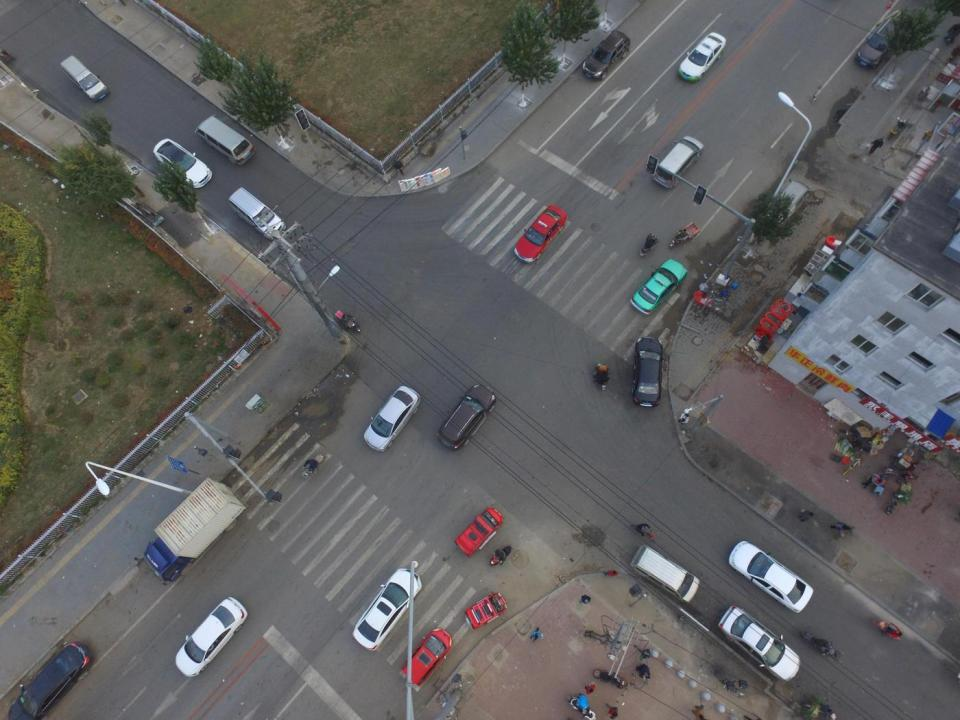car: (8, 641, 93, 720), (716, 605, 801, 682), (727, 540, 814, 614), (175, 596, 248, 678), (352, 568, 422, 651), (437, 384, 496, 452), (364, 384, 420, 453), (629, 259, 688, 316), (514, 205, 567, 264), (400, 628, 453, 686), (153, 138, 212, 189), (677, 32, 727, 84), (581, 30, 631, 80)
truck: (133, 478, 248, 586)
van: (629, 544, 700, 603), (195, 114, 256, 166), (228, 187, 286, 240), (652, 135, 705, 189), (60, 54, 109, 103)
